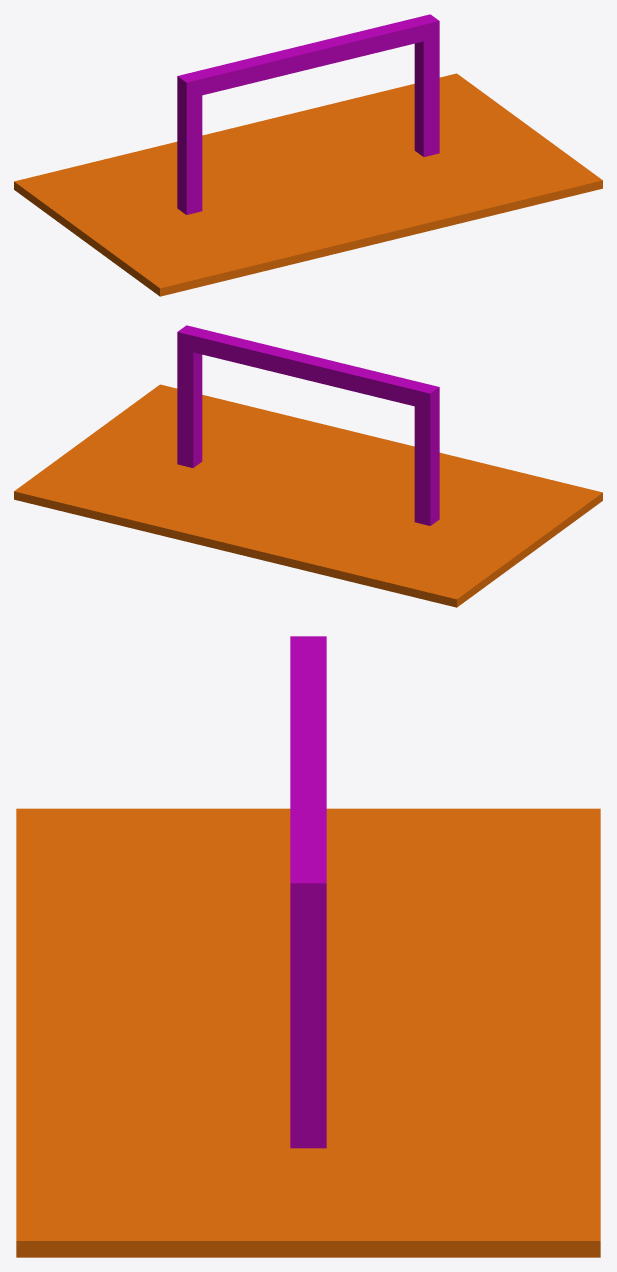
3 renders of one model, top to bottom at view 1: azimuth 30°, elevation 25°; view 2: azimuth 150°, elevation 25°; view 3: azimuth 270°, elevation 25°, orthographic. The views are drawn at different scales.
Visible parts, largest first — view 1: 3DGeom-15, 3DGeom-16; view 2: 3DGeom-15, 3DGeom-16; view 3: 3DGeom-15, 3DGeom-16.
Part boxes in pixels (<box>): 3DGeom-15: <box>14,73,602,296</box>; 3DGeom-16: <box>177,14,439,214</box>; 3DGeom-15: <box>14,384,602,607</box>; 3DGeom-16: <box>177,325,439,525</box>; 3DGeom-15: <box>16,808,600,1257</box>; 3DGeom-16: <box>290,636,326,1148</box>.
Bounding box in the file's own units: 0.3556 × 0.2032 × 0.108.
